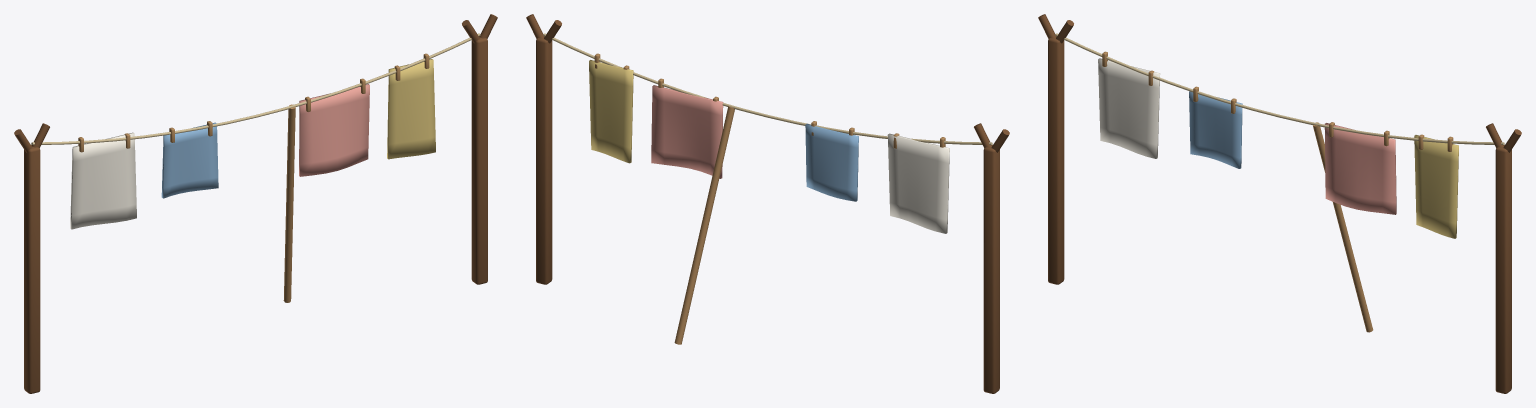
Rendered from clothesline.glb.
The picture shows the model from 3 angles, left to right: view 1: azimuth 30°, elevation 25°; view 2: azimuth 150°, elevation 25°; view 3: azimuth 330°, elevation 25°; orthographic projection.
Parts seen in each view (by area): view 1: clothesline; view 2: clothesline; view 3: clothesline.
Part boxes in pixels (x1=…): clothesline: x1=14, y1=14, x2=497, y2=393; clothesline: x1=526, y1=14, x2=1009, y2=393; clothesline: x1=1038, y1=14, x2=1521, y2=393.
Size of the model in its own units: 3.34 by 1.76 by 0.4103.
